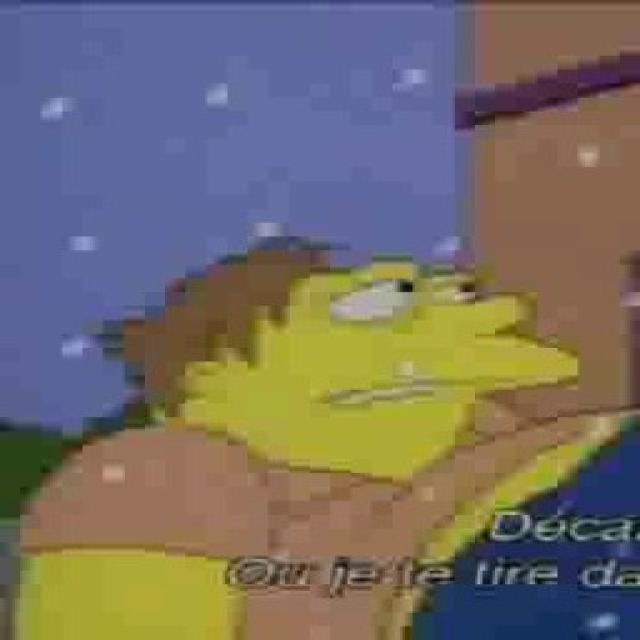Barney Gumble: (89, 236, 586, 486)
